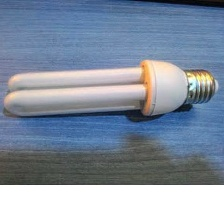light_bulb: (1, 56, 221, 123)
